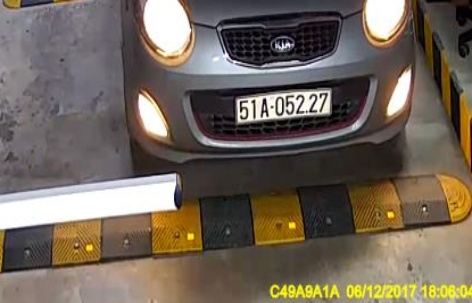plate: (233, 86, 334, 132)
